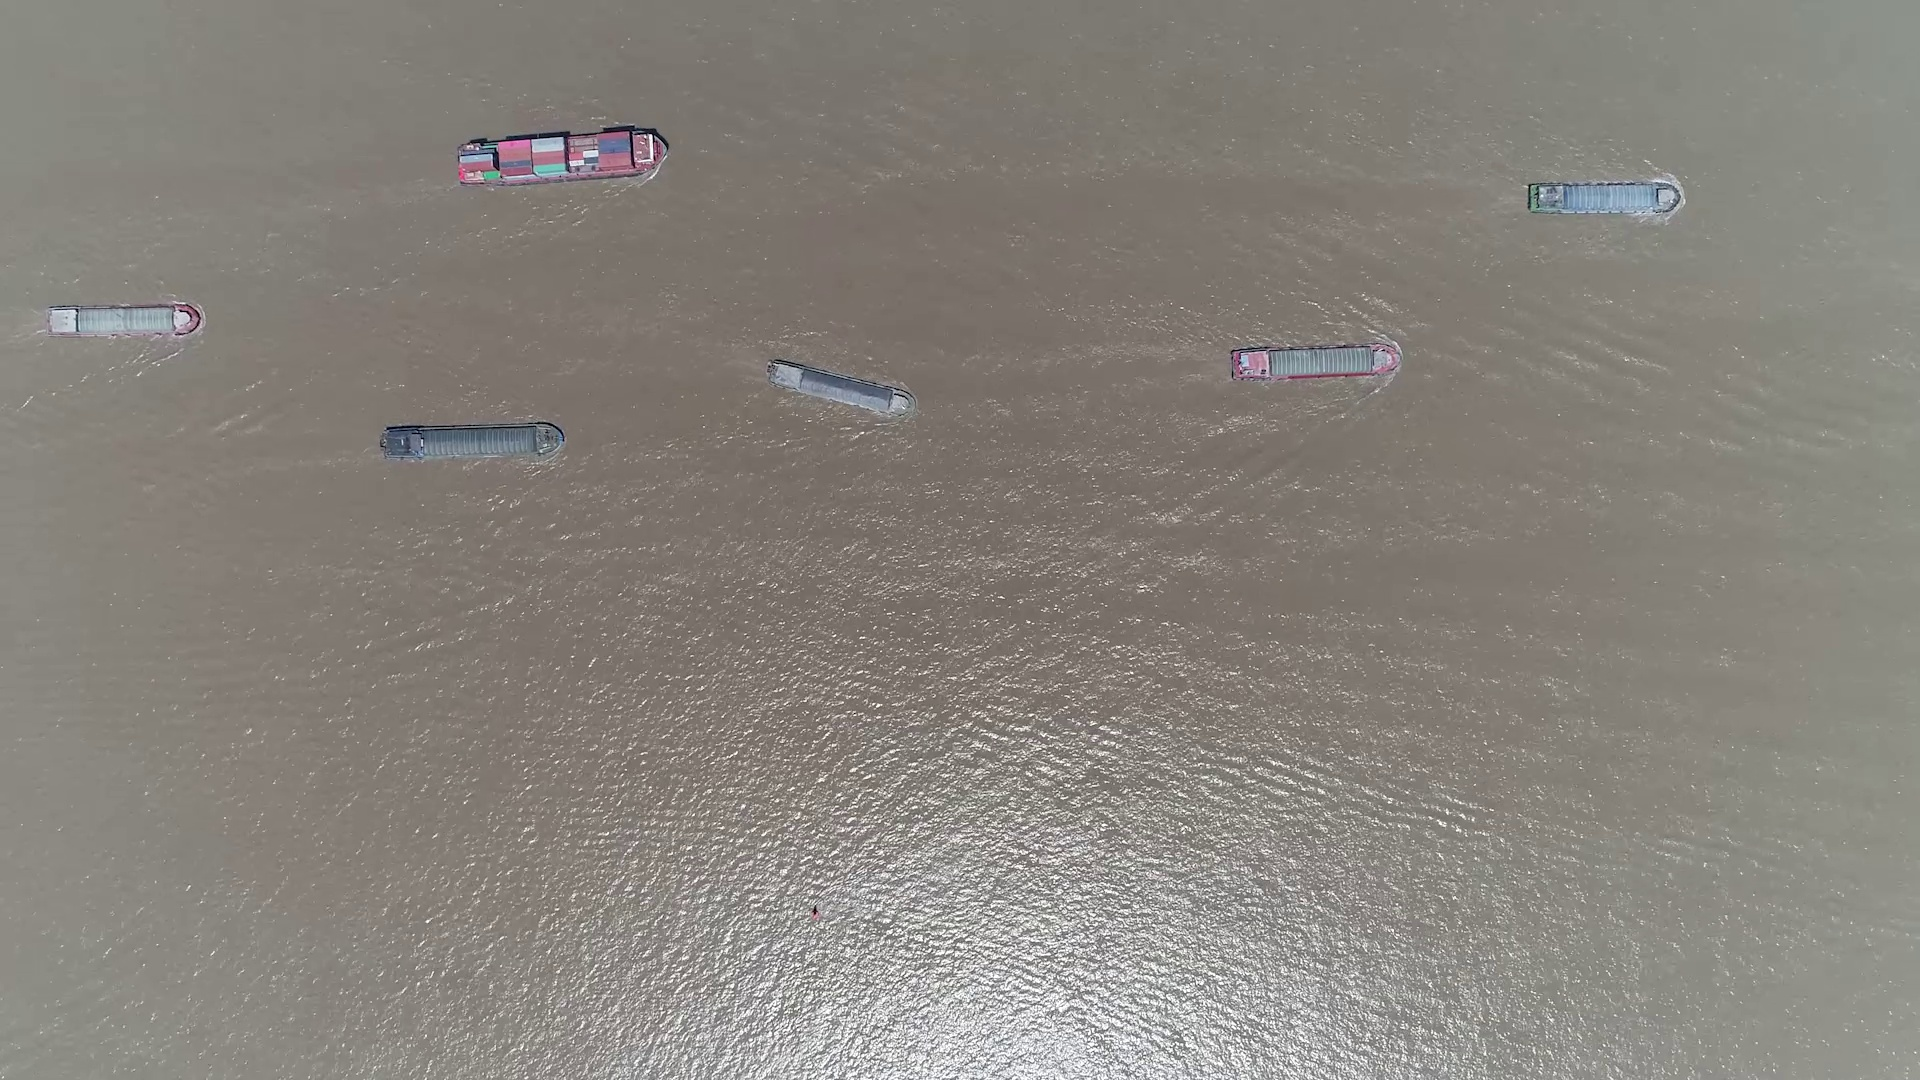ship: (456, 129, 666, 185), (766, 357, 916, 415), (1232, 342, 1400, 381), (381, 423, 562, 460), (44, 305, 200, 338), (1528, 182, 1677, 215)
